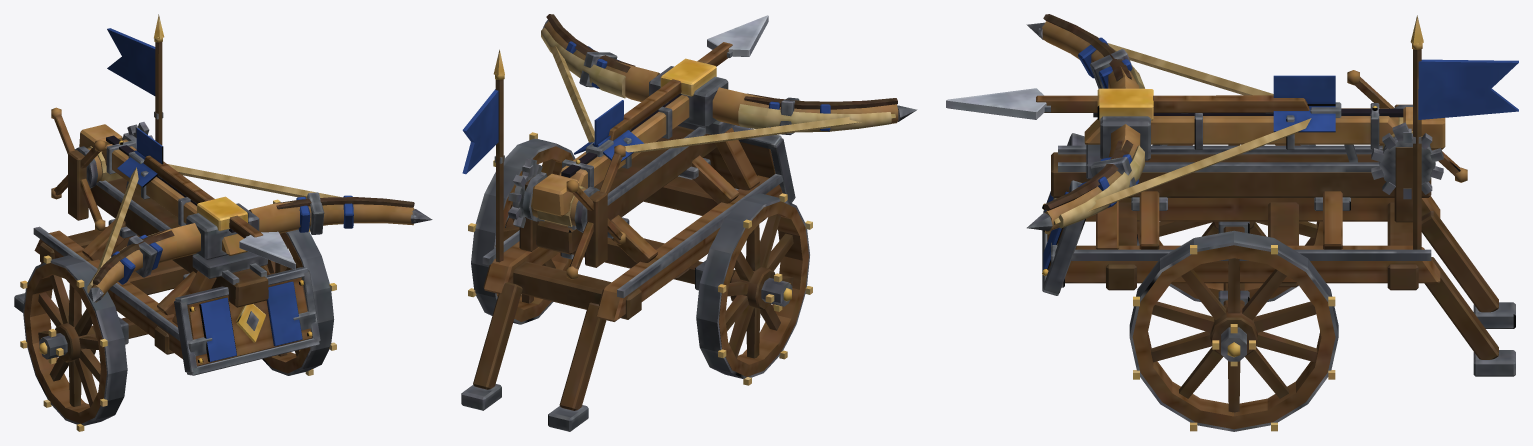
Rendered from ballista.glb.
3 views of the same model, side by side, from view 1: azimuth 30°, elevation 25°; view 2: azimuth 150°, elevation 25°; view 3: azimuth 270°, elevation 25° (orthographic). The views are drawn at different scales.
Parts seen in each view (by area): view 1: Body, SiegeArm, WheelL, WheelR; view 2: Body, SiegeArm, WheelL, WheelR; view 3: Body, SiegeArm, WheelR, WheelL.
Part boxes in pixels (bbox=[...]): Body: bbox=[14, 14, 320, 375]; SiegeArm: bbox=[79, 124, 432, 302]; WheelL: bbox=[20, 255, 127, 431]; WheelR: bbox=[262, 199, 336, 375]; Body: bbox=[461, 49, 795, 431]; SiegeArm: bbox=[532, 14, 917, 216]; WheelL: bbox=[696, 193, 812, 385]; WheelR: bbox=[468, 132, 575, 324]; Body: bbox=[1042, 15, 1518, 376]; SiegeArm: bbox=[946, 14, 1445, 232]; WheelR: bbox=[1129, 230, 1338, 431]; WheelL: bbox=[1137, 144, 1322, 301].
Size of the model in its own units: 3.42 by 2.99 by 4.06.
Materials: 2 (2 with a texture image).
